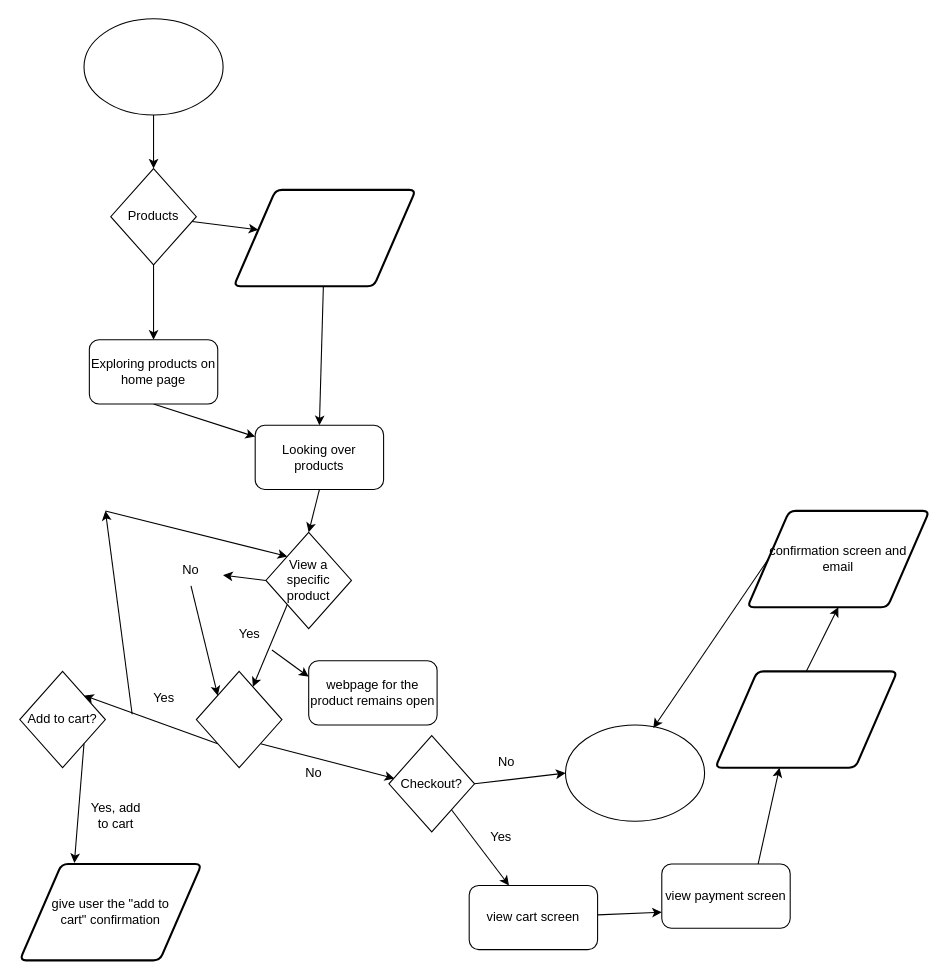
Image size: 948x980. Some labels were removed from this diagram. The shapes that lost their labels are listed below. From the top down, each one's centre as x and y in pixels, then its label:
point (153, 66): User entering website
point (324, 237): User provide input to search for product
point (238, 719): Continue shopping?
point (806, 719): user enter payment
point (634, 772): leave website
